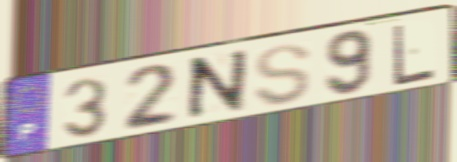2: (121, 62, 180, 136)
3: (61, 75, 109, 143)
9: (322, 28, 374, 100)
L: (392, 21, 437, 89)
N: (182, 46, 250, 127)
S: (251, 42, 313, 108)
